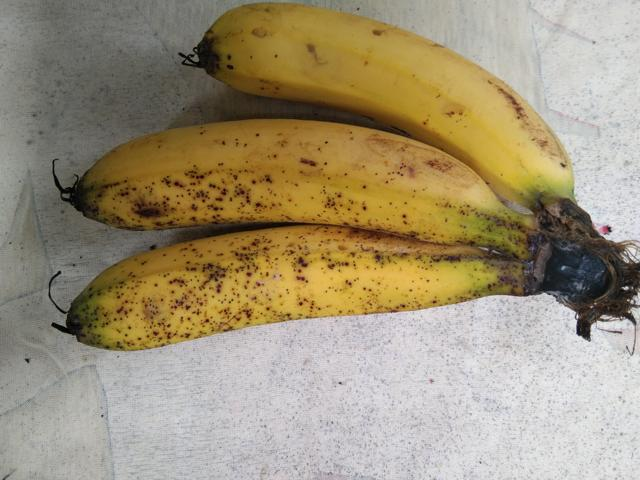freshripe: (185, 1, 572, 200)
ripe: (56, 219, 513, 363), (59, 109, 494, 248)
